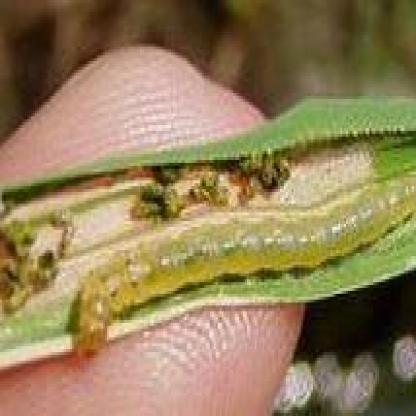leaf-folder: (24, 176, 416, 359)
